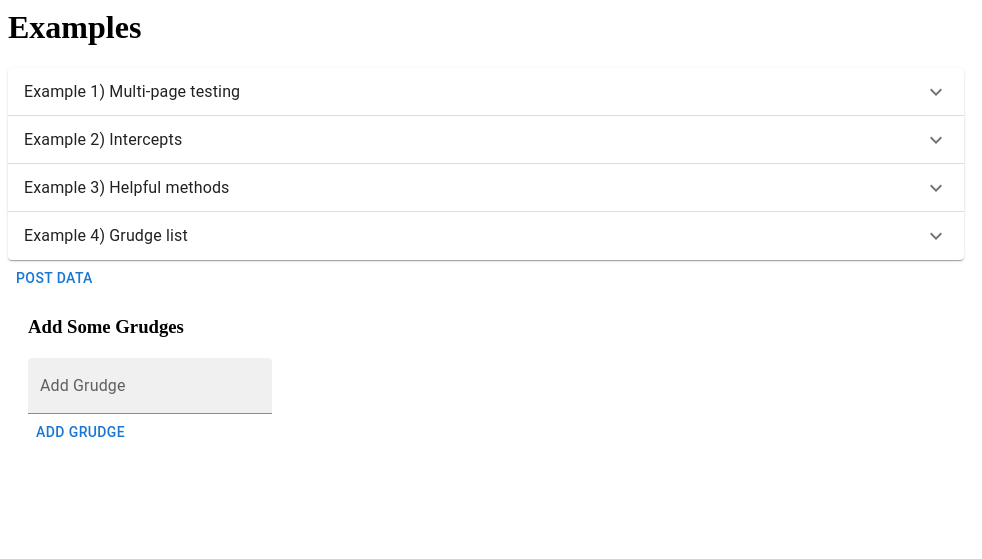
Various examples › Whitin test
The width and height of the screenshot is (982, 559).
In the field labelled "Add Grudge": (150, 386) [28,358,272,414], type "something something!"
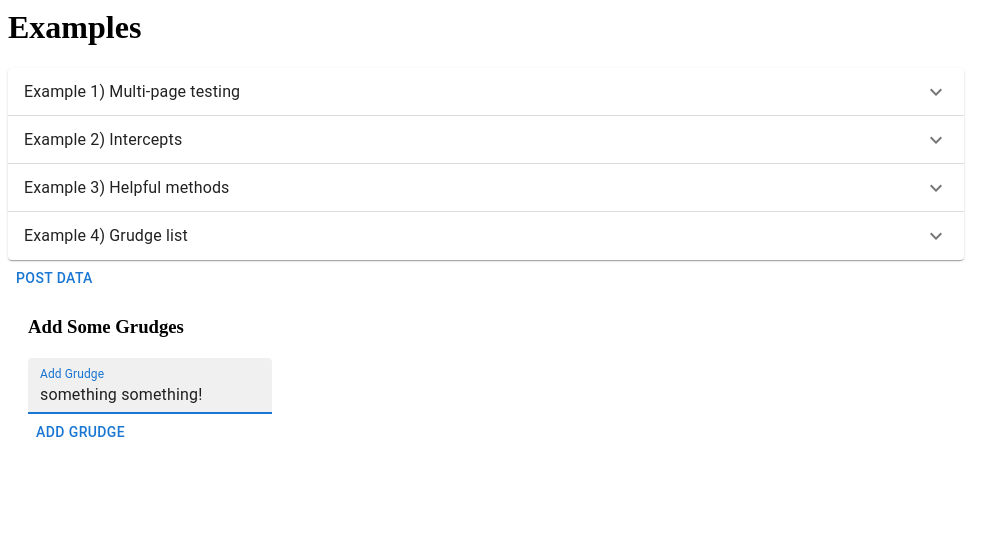
Click the button with test id "grudge-button": (81, 433) [28,414,133,451]
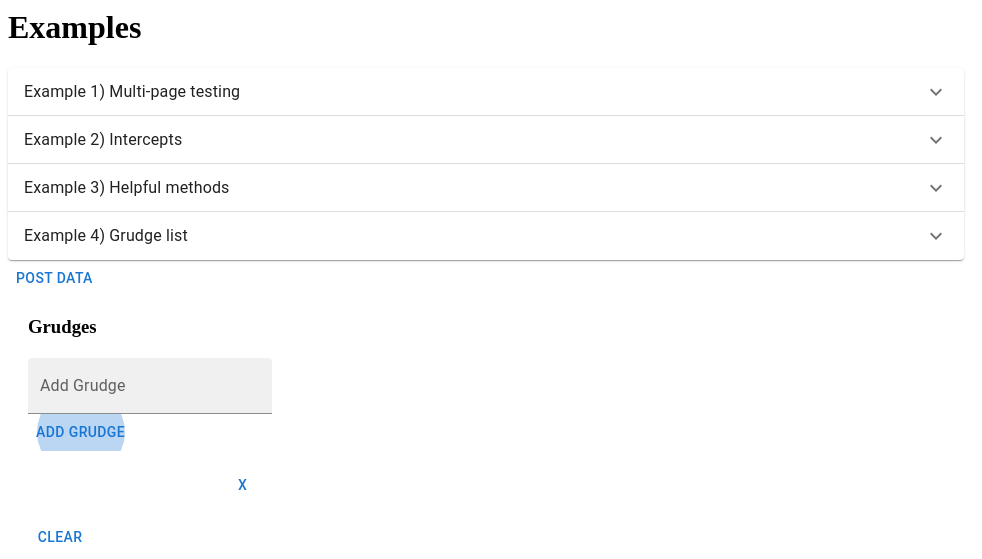
Now the number of list items is 1, box [68,467,275,504]
Click the button "X": (243, 486) [211,467,275,504]
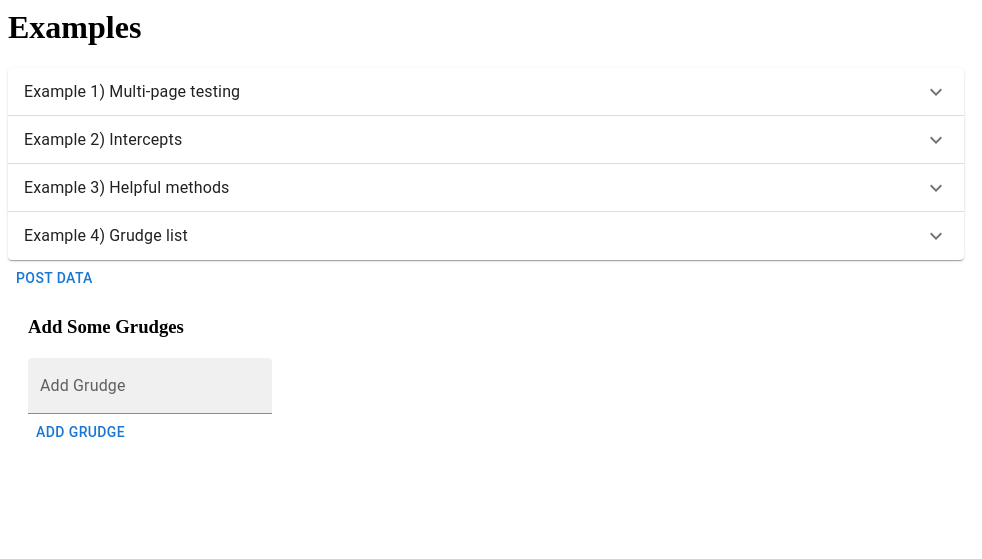
Now no list items are shown
